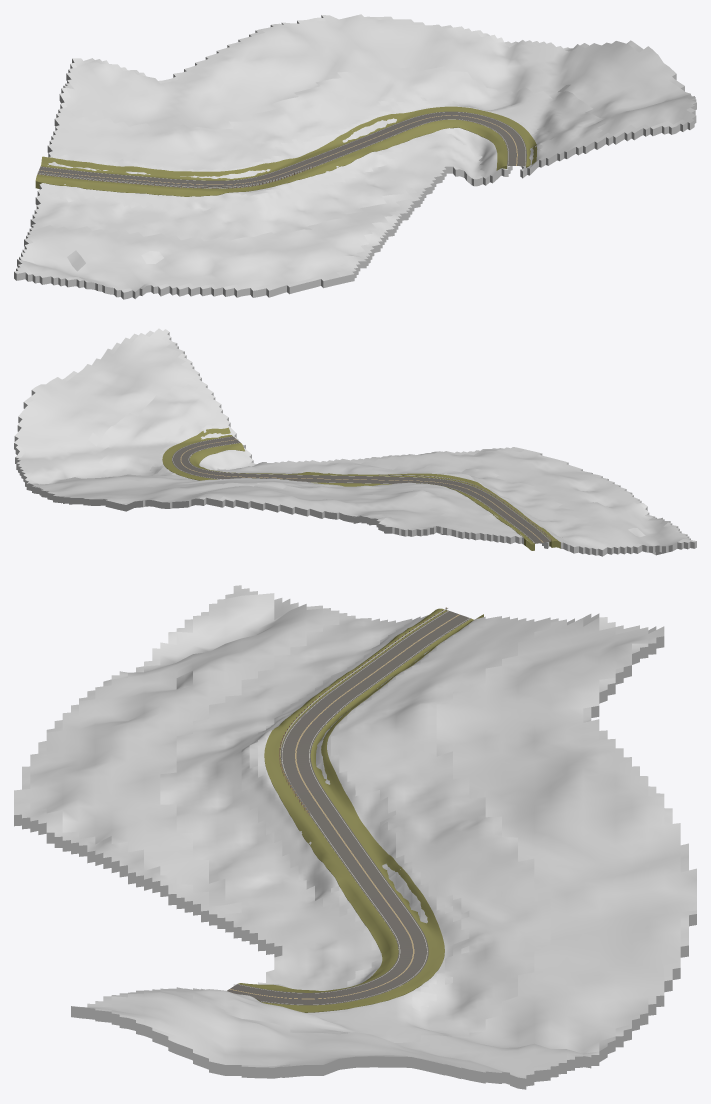
File: conz_140.glb
3 views of the same model, one above another, from view 1: azimuth 30°, elevation 25°; view 2: azimuth 150°, elevation 25°; view 3: azimuth 270°, elevation 25° (orthographic). The views are drawn at different scales.
Visible parts, largest first — view 1: terrain140, road140, verge140L, verge140R, paint_white140, paint_yellow140; view 2: terrain140, road140, verge140L, verge140R, paint_yellow140; view 3: terrain140, road140, verge140R, verge140L, paint_white140, paint_yellow140.
Boxes of the visible parts, x1,y1,x2,y2 form: terrain140: (14, 14, 696, 299); road140: (37, 111, 526, 188); verge140L: (35, 119, 507, 196); verge140R: (41, 106, 537, 180); paint_white140: (39, 112, 525, 188); paint_yellow140: (39, 115, 517, 184); terrain140: (14, 328, 696, 556); road140: (172, 436, 550, 543); verge140L: (189, 443, 560, 548); verge140R: (162, 427, 534, 550); paint_yellow140: (180, 439, 543, 542); terrain140: (14, 585, 696, 1089); road140: (227, 610, 470, 1005); verge140R: (255, 614, 483, 1012); verge140L: (238, 608, 447, 992); paint_white140: (237, 611, 469, 1004); paint_yellow140: (230, 614, 459, 999).
Size of the model in its own units: 302 by 43.08 by 168.
